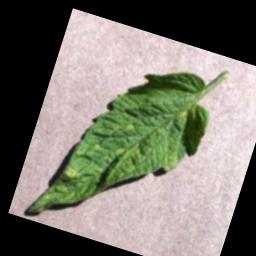Leaf_Mold: (61, 165, 84, 182), (177, 108, 189, 121)
